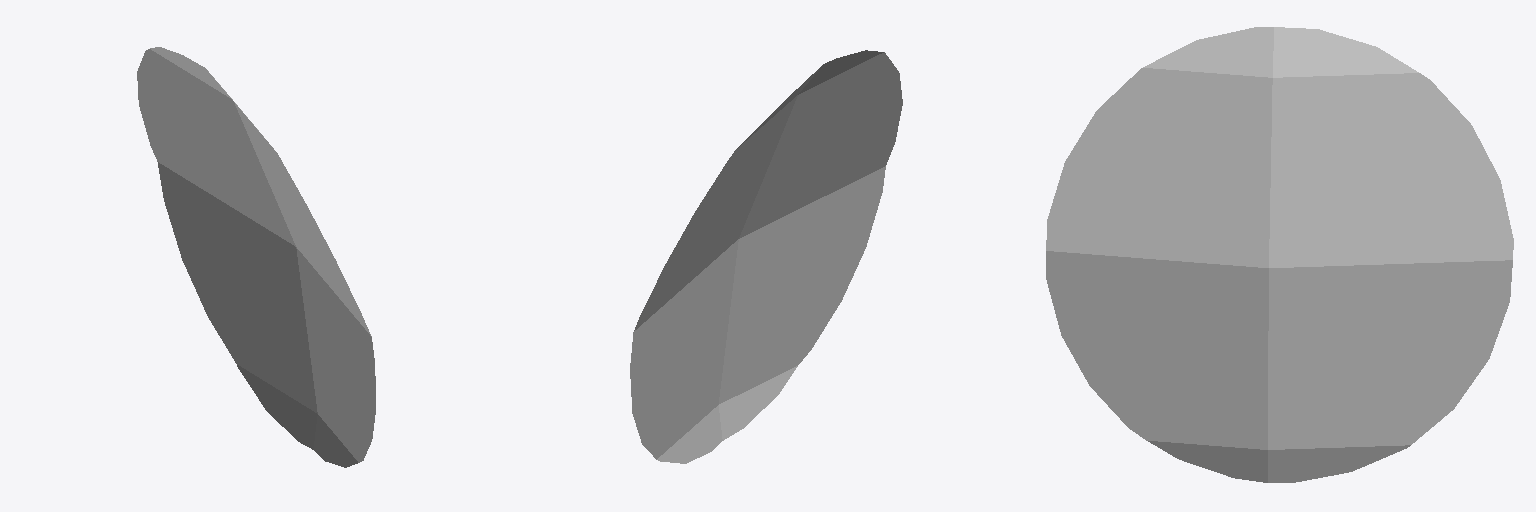
Rendered from original-12.obj.
The picture shows the model from 3 angles: view 1: azimuth 30°, elevation 25°; view 2: azimuth 150°, elevation 25°; view 3: azimuth 270°, elevation 25°; orthographic projection.
Parts seen in each view (by area): view 1: mesh5/mesh5-geometry/material_3/component_0#mesh5-geometry; view 2: mesh5/mesh5-geometry/material_3/component_0#mesh5-geometry; view 3: mesh5/mesh5-geometry/material_3/component_0#mesh5-geometry.
Boxes of the visible parts, box(x1,y1,x2,y2) form: mesh5/mesh5-geometry/material_3/component_0#mesh5-geometry: box(137, 47, 375, 467); mesh5/mesh5-geometry/material_3/component_0#mesh5-geometry: box(630, 50, 902, 463); mesh5/mesh5-geometry/material_3/component_0#mesh5-geometry: box(1046, 27, 1513, 482).
Bounding box in the file's own units: 0.0754 × 0.2632 × 0.2749.